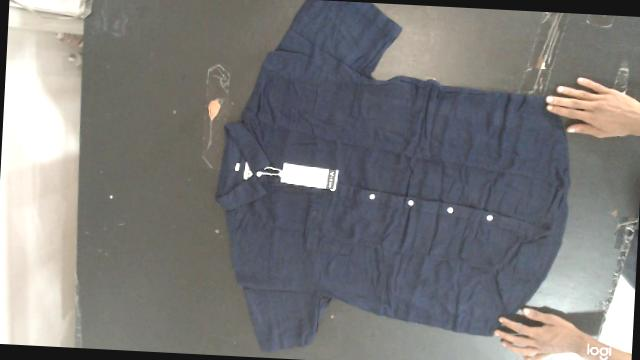new-garment: (216, 0, 569, 351)
